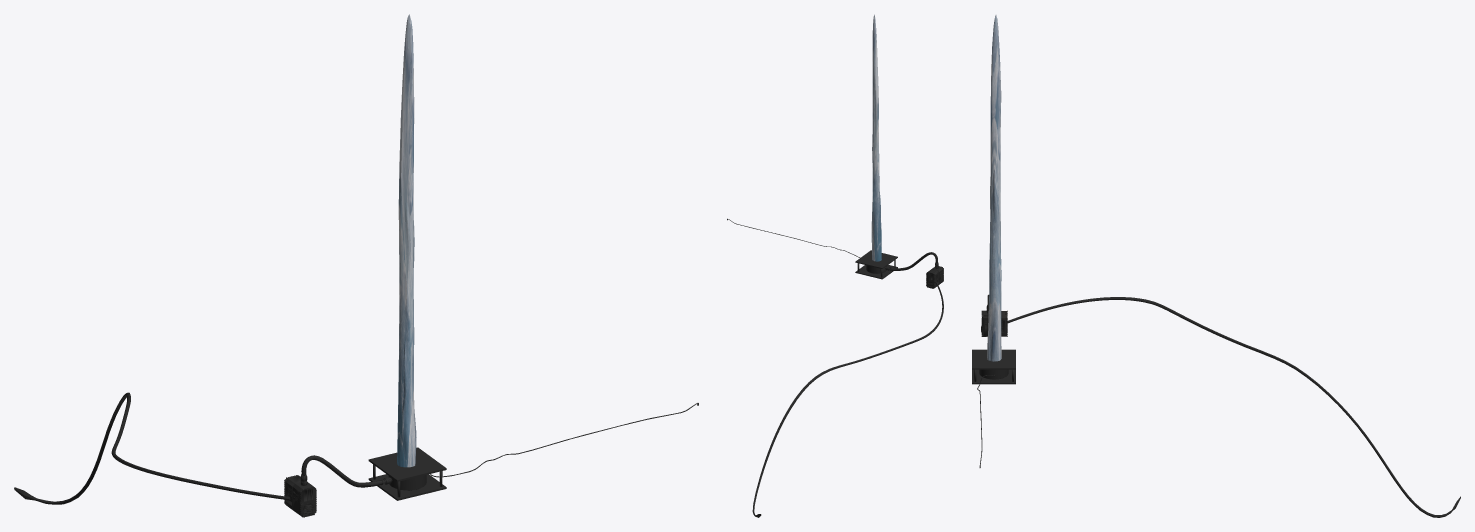
Rendered from antenadehielo_cable_2.glb.
3 renders of one model, left to right at view 1: azimuth 30°, elevation 25°; view 2: azimuth 150°, elevation 25°; view 3: azimuth 270°, elevation 25°, orthographic. The views are drawn at different scales.
Visible parts, largest first — view 1: Cilindro_2, solo_antena_0, object 2; view 2: Cilindro_2, solo_antena_0, object 2; view 3: Cilindro_2, solo_antena_0, object 2.
Part boxes in pixels (<box>): Cilindro_2: <box>397,14,416,467</box>; solo_antena_0: <box>284,403,698,517</box>; object 2: <box>14,392,290,504</box>; Cilindro_2: <box>871,14,881,261</box>; solo_antena_0: <box>727,218,943,288</box>; object 2: <box>752,281,943,517</box>; Cilindro_2: <box>987,14,1001,361</box>; solo_antena_0: <box>972,294,1015,467</box>; object 2: <box>1007,297,1460,517</box>.
Size of the model in its own units: 290 by 398 by 333.
Materials: 2 (2 with a texture image).
